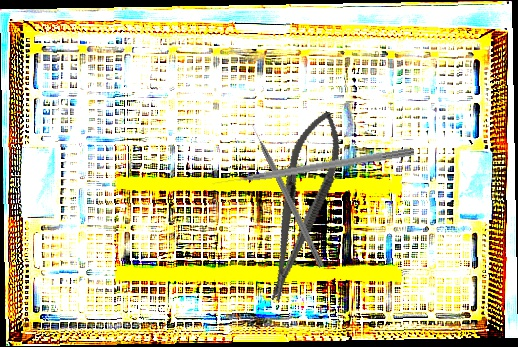Hook Surgical: (249, 122, 327, 268)
Needle Holder: (249, 104, 353, 308)
Pusher: (211, 145, 415, 188)
